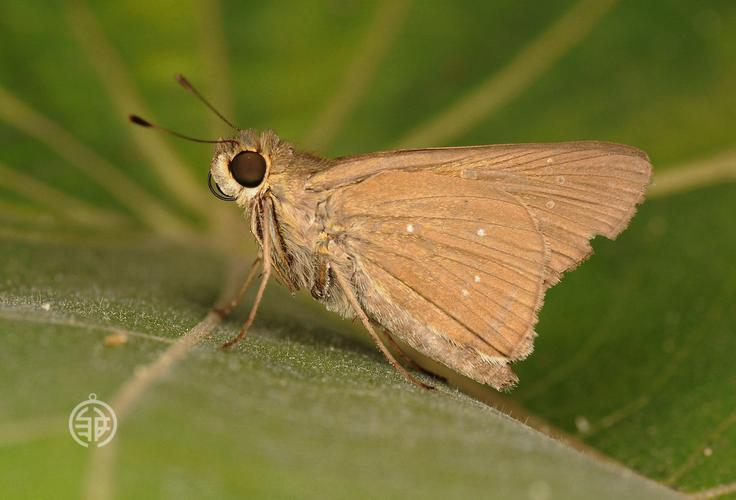Hesperiidae: (126, 71, 654, 407)
